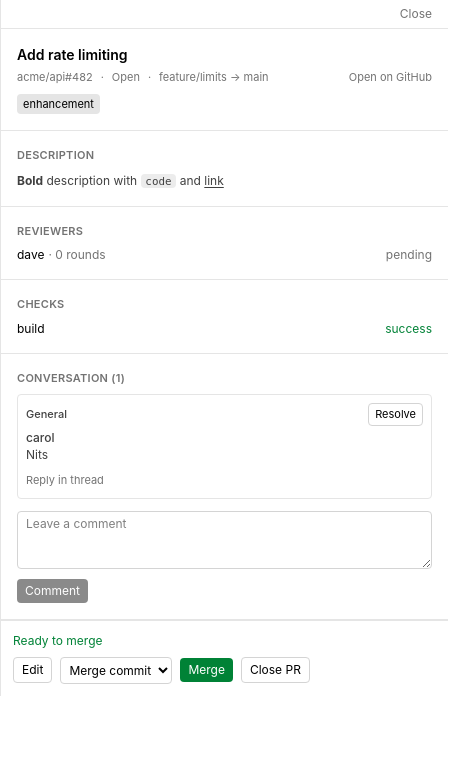
Test: PrDetail › focuses the reply box when opened, and Esc cancels the draft
The width and height of the screenshot is (465, 768).
Check: the text "Nits" is shown, box x1=26 y1=447 x2=48 y2=462
Click the button "Reply in thread": (65,480) x1=26 y1=472 x2=104 y2=488
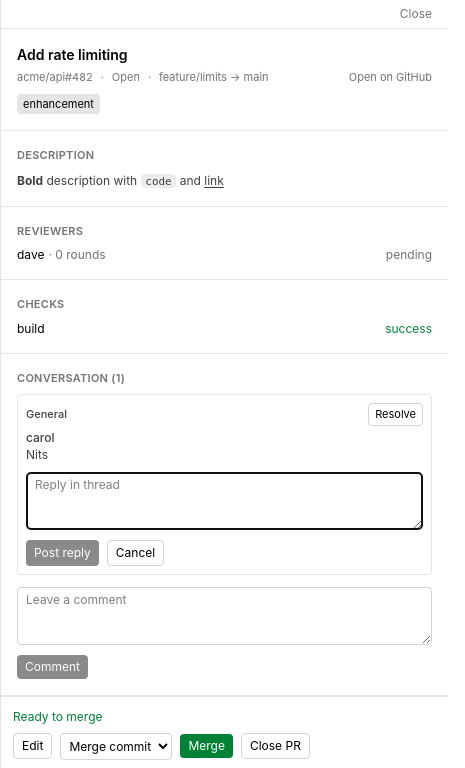
In the text box labelled "Reply": (224,501) x1=26 y1=472 x2=423 y2=530, type "Draft"
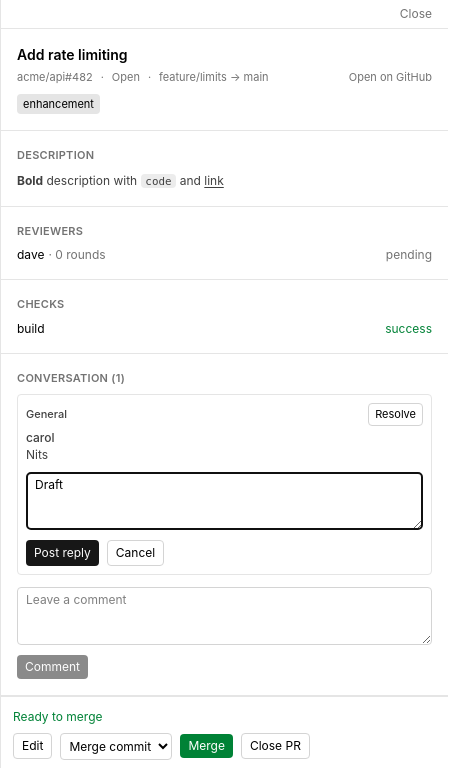
Press Escape
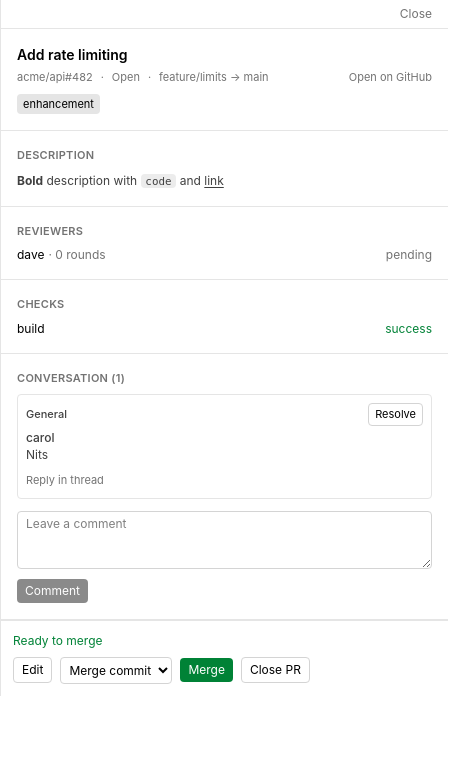
Check: the button "Reply in thread" is shown, box x1=26 y1=472 x2=104 y2=488
